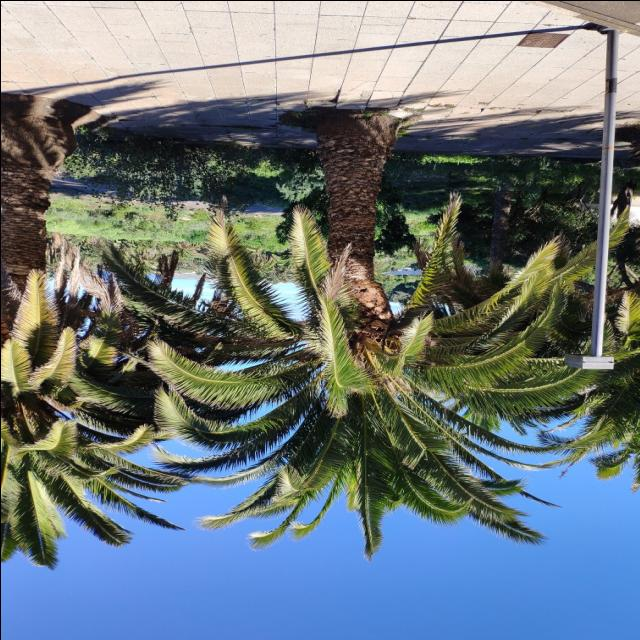Palm-Trees: (161, 112, 551, 538)
